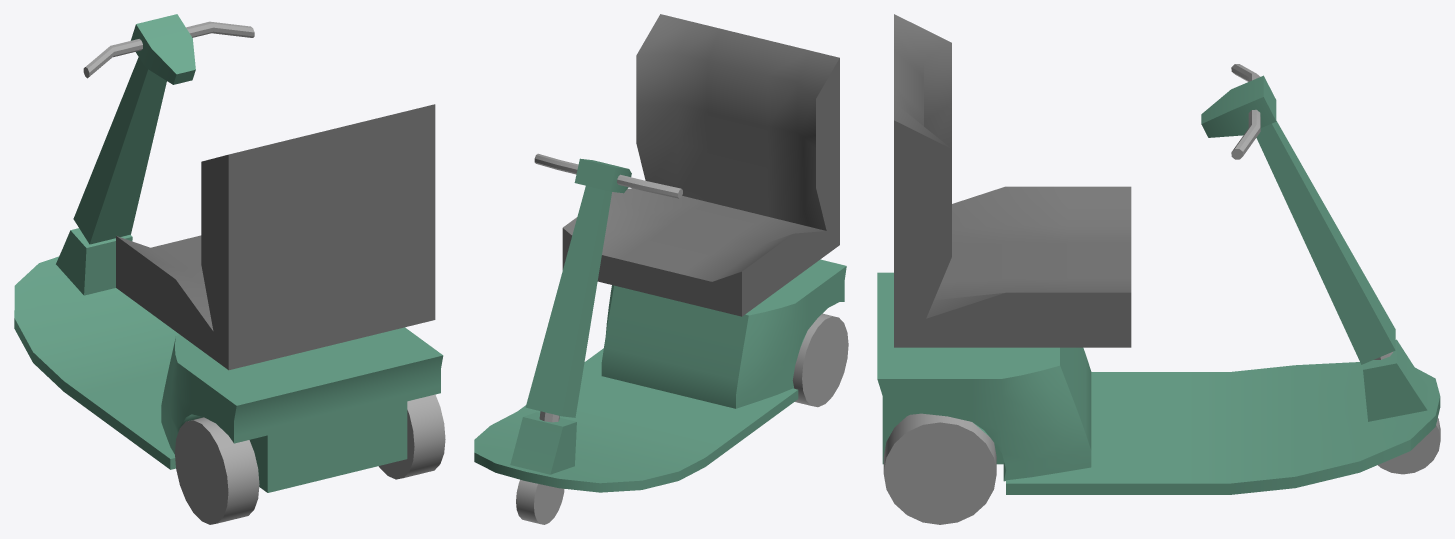
File: scooter0.fbx
3 views of the same model, side by side, from view 1: azimuth 30°, elevation 25°; view 2: azimuth 150°, elevation 25°; view 3: azimuth 270°, elevation 25° (orthographic). The views are drawn at different scales.
Parts seen in each view (by area): view 1: pasted__pCube1, polySurface2, pCube1, pCube4, pCylinder1, pCube5, pCylinder2, pCube2, pCylinder6; view 2: pasted__pCube1, polySurface2, pCube1, pCube4, pCylinder1, pCube2, pCylinder3, pCube5, pCylinder6; view 3: pasted__pCube1, pCube1, polySurface2, pCylinder2, pCube4, pCube2, pCube5, pCylinder3, pCylinder6.
Boxes of the visible parts, x1=… form: pasted__pCube1: x1=116, y1=104, x2=435, y2=370; polySurface2: x1=161, y1=327, x2=443, y2=492; pCube1: x1=14, y1=256, x2=179, y2=469; pCube4: x1=73, y1=57, x2=166, y2=244; pCylinder1: x1=175, y1=417, x2=259, y2=524; pCube5: x1=130, y1=14, x2=195, y2=84; pCylinder2: x1=378, y1=394, x2=445, y2=479; pCube2: x1=56, y1=228, x2=132, y2=295; pCylinder6: x1=83, y1=21, x2=254, y2=78; pasted__pCube1: x1=562, y1=14, x2=839, y2=316; polySurface2: x1=601, y1=259, x2=846, y2=408; pCube1: x1=474, y1=348, x2=798, y2=492; pCube4: x1=525, y1=186, x2=611, y2=417; pCylinder1: x1=792, y1=313, x2=848, y2=407; pCube2: x1=510, y1=412, x2=576, y2=474; pCylinder3: x1=516, y1=479, x2=564, y2=524; pCube5: x1=574, y1=158, x2=631, y2=193; pCylinder6: x1=534, y1=153, x2=682, y2=198; pasted__pCube1: x1=894, y1=14, x2=1131, y2=347; pCube1: x1=1006, y1=362, x2=1440, y2=494; polySurface2: x1=877, y1=272, x2=1091, y2=481; pCylinder2: x1=883, y1=413, x2=996, y2=524; pCube4: x1=1256, y1=121, x2=1395, y2=364; pCube2: x1=1363, y1=339, x2=1427, y2=421; pCube5: x1=1201, y1=75, x2=1276, y2=137; pCylinder3: x1=1378, y1=418, x2=1440, y2=474; pCylinder6: x1=1231, y1=64, x2=1260, y2=159.
Bounding box in the file's own units: 10.5 × 17.64 × 22.4.
